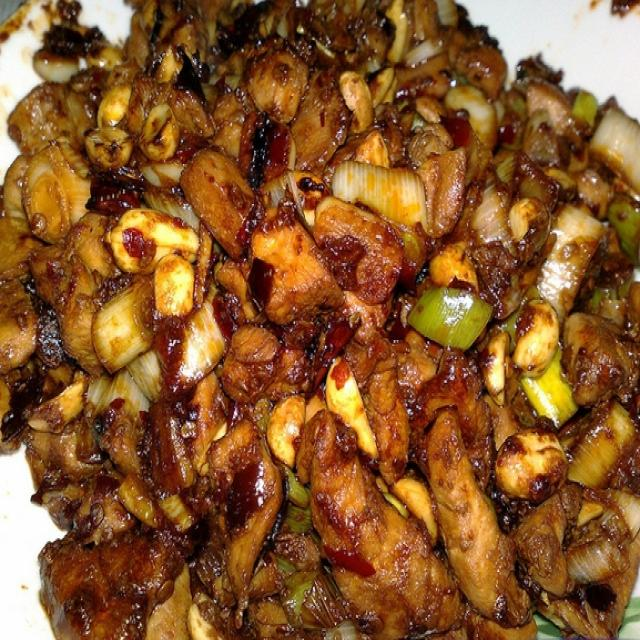鸡肉料理 含炸鸡: (10, 11, 631, 628)
